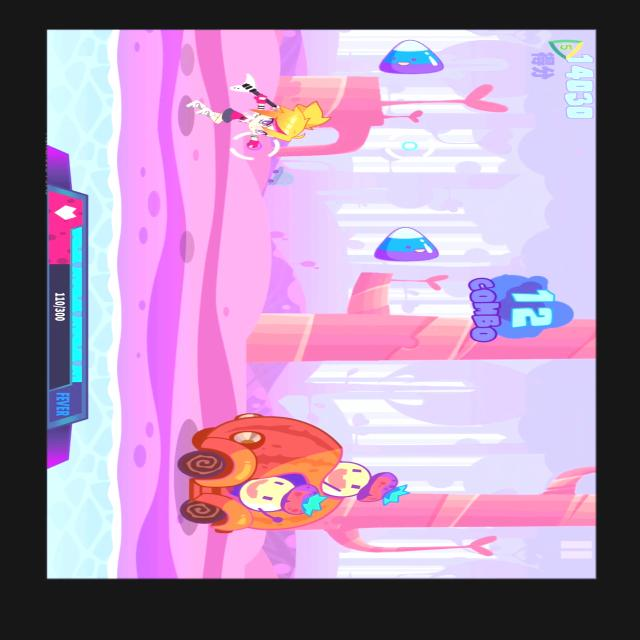Boss-Pumpkin: (177, 410, 409, 539)
Sky-Monster---Blue-Bullet: (372, 37, 448, 77), (367, 225, 443, 263)
